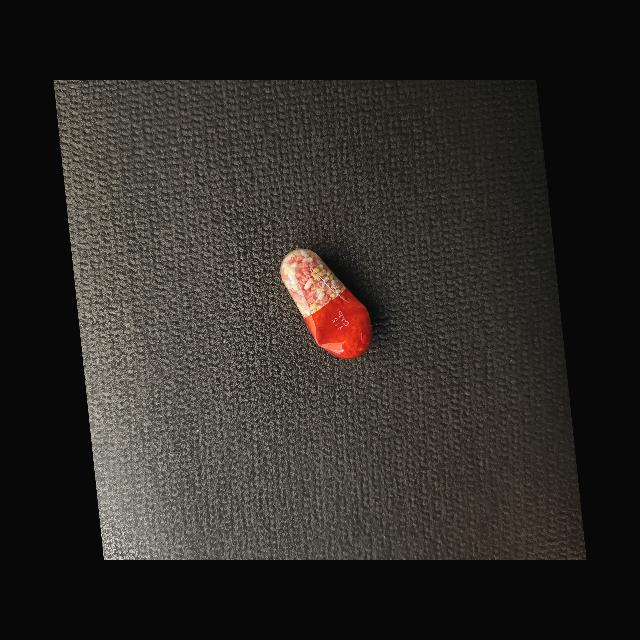Defective Capsule: (280, 249, 373, 359)
